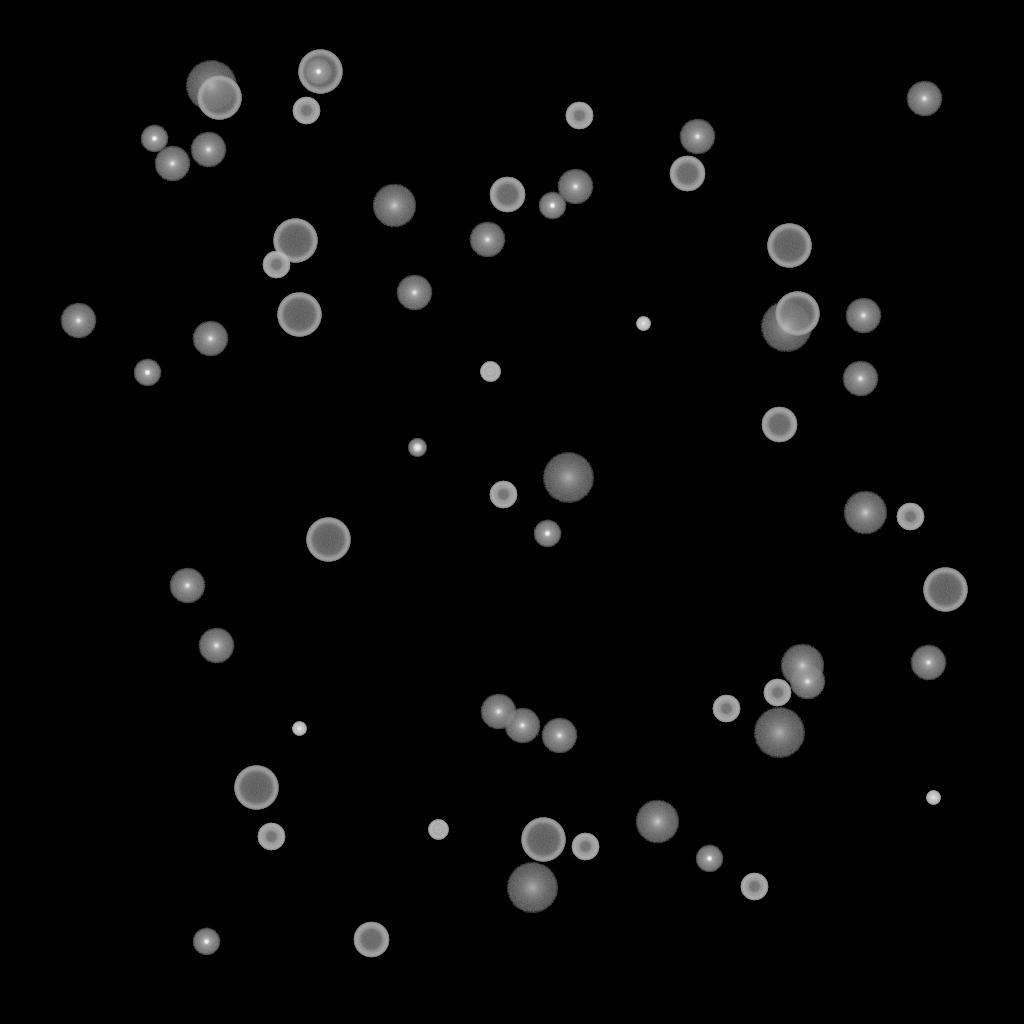depth:-10: (533, 520, 561, 548), (304, 58, 332, 86), (538, 192, 566, 220), (133, 359, 161, 387), (192, 928, 220, 956), (140, 125, 168, 153), (695, 845, 723, 873)
depth:-20: (408, 439, 426, 457)
depth:-30: (292, 722, 306, 736), (926, 791, 940, 805), (636, 317, 650, 331)
depth:-40: (428, 820, 448, 840), (480, 362, 500, 382)
depth:-50: (763, 679, 791, 707), (712, 695, 740, 723), (740, 873, 768, 901), (257, 823, 285, 851), (262, 251, 290, 279), (489, 481, 517, 509), (571, 833, 599, 861), (896, 503, 924, 531), (565, 102, 593, 130), (292, 97, 320, 125)
depth:-60: (761, 407, 797, 443), (669, 156, 705, 192), (489, 177, 525, 213), (353, 922, 389, 958)
depth:-70: (521, 818, 565, 862), (234, 766, 278, 810), (767, 224, 811, 268), (298, 50, 342, 94), (277, 293, 321, 337), (197, 76, 241, 120), (923, 568, 967, 612), (306, 518, 350, 562), (775, 292, 819, 336), (273, 219, 317, 263)
depth:0: (679, 119, 715, 155), (60, 303, 96, 339), (906, 81, 942, 117), (192, 321, 228, 357), (557, 169, 593, 205), (198, 628, 234, 664), (469, 222, 505, 258), (480, 694, 516, 730), (842, 361, 878, 397), (154, 146, 190, 182), (504, 708, 540, 744), (789, 664, 825, 700), (396, 275, 432, 311), (541, 718, 577, 754), (190, 132, 226, 168), (845, 298, 881, 334), (169, 568, 205, 604), (910, 645, 946, 681)
depth:10: (780, 644, 824, 688), (372, 184, 416, 228), (635, 800, 679, 844), (843, 491, 887, 535)
depth:20: (185, 61, 237, 111), (506, 863, 558, 913), (753, 708, 805, 758), (542, 453, 594, 503), (760, 302, 812, 352)
